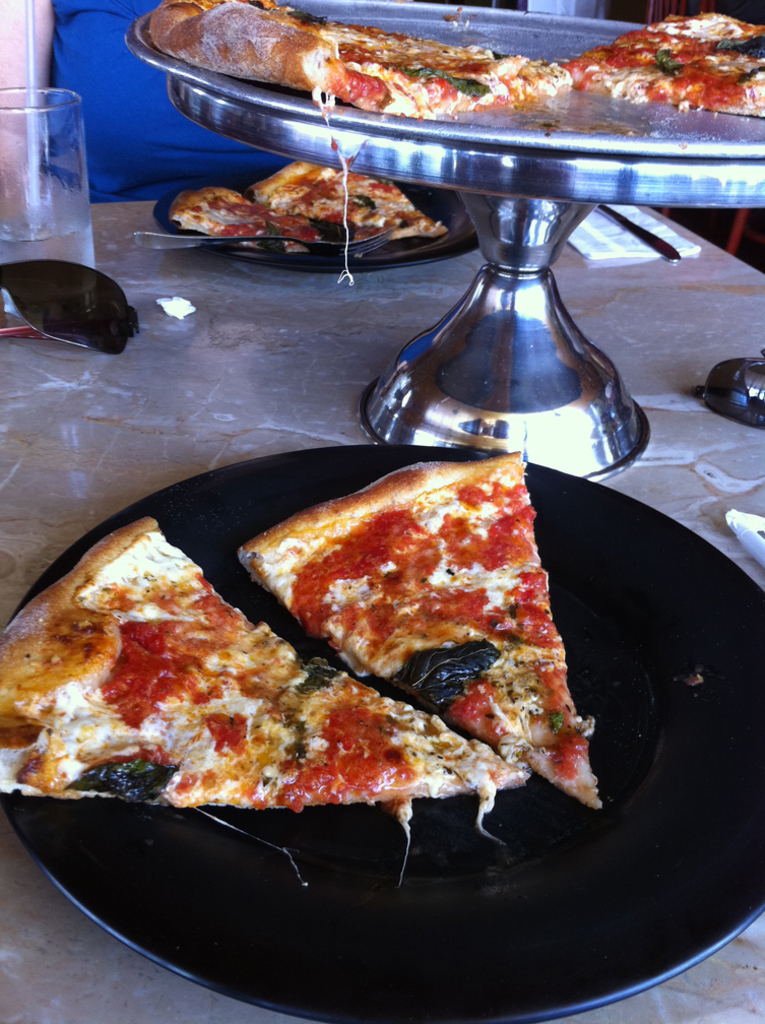Pizza: (14, 457, 610, 857), (151, 0, 566, 124), (552, 0, 763, 124), (258, 146, 448, 242), (178, 193, 320, 252)
